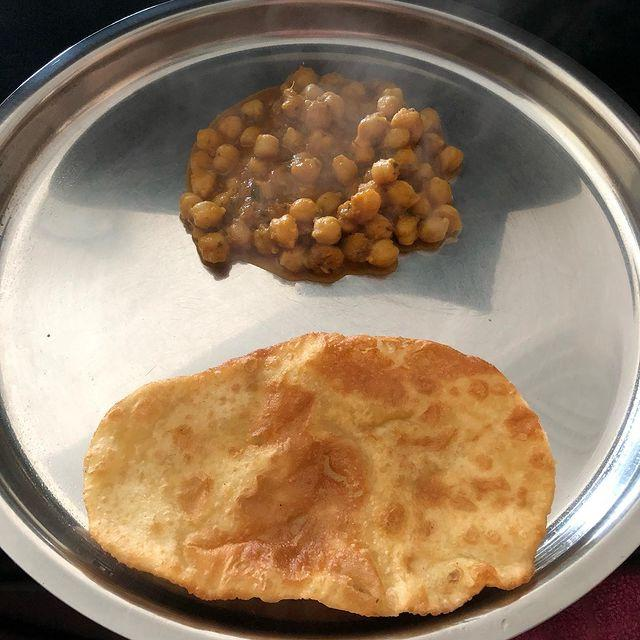Chole: (143, 54, 482, 289)
